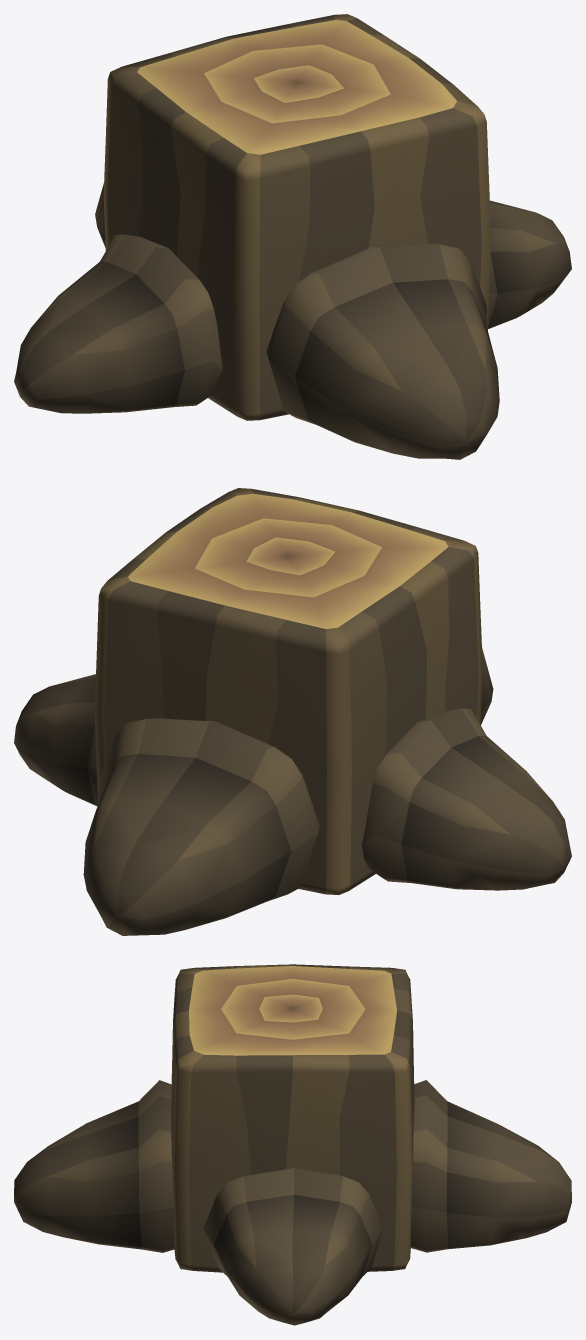
The model's file is wooden_cubes7.fbx.
The picture shows the model from 3 angles, top to bottom: view 1: azimuth 30°, elevation 25°; view 2: azimuth 150°, elevation 25°; view 3: azimuth 270°, elevation 25°; orthographic projection. The views are drawn at different scales.
Visible parts, largest first — view 1: wooden_cubes7; view 2: wooden_cubes7; view 3: wooden_cubes7.
Part boxes in pixels (box(x1,y1,x2,y2)): wooden_cubes7: box(14, 14, 571, 459); wooden_cubes7: box(14, 488, 571, 935); wooden_cubes7: box(14, 964, 571, 1325).
Size of the model in its own units: 22864 by 10897 by 24794.
1 material, 1 textured.
